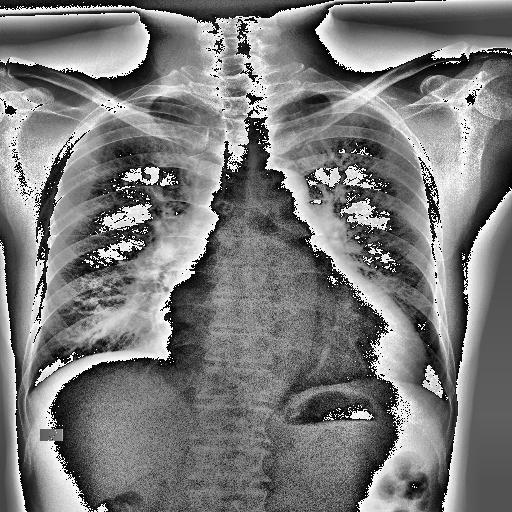0- Aortic enlargement: (251, 166, 313, 238), (248, 166, 310, 224)
3- Cardiomegaly: (151, 298, 424, 404), (152, 294, 428, 389), (148, 323, 424, 386)
